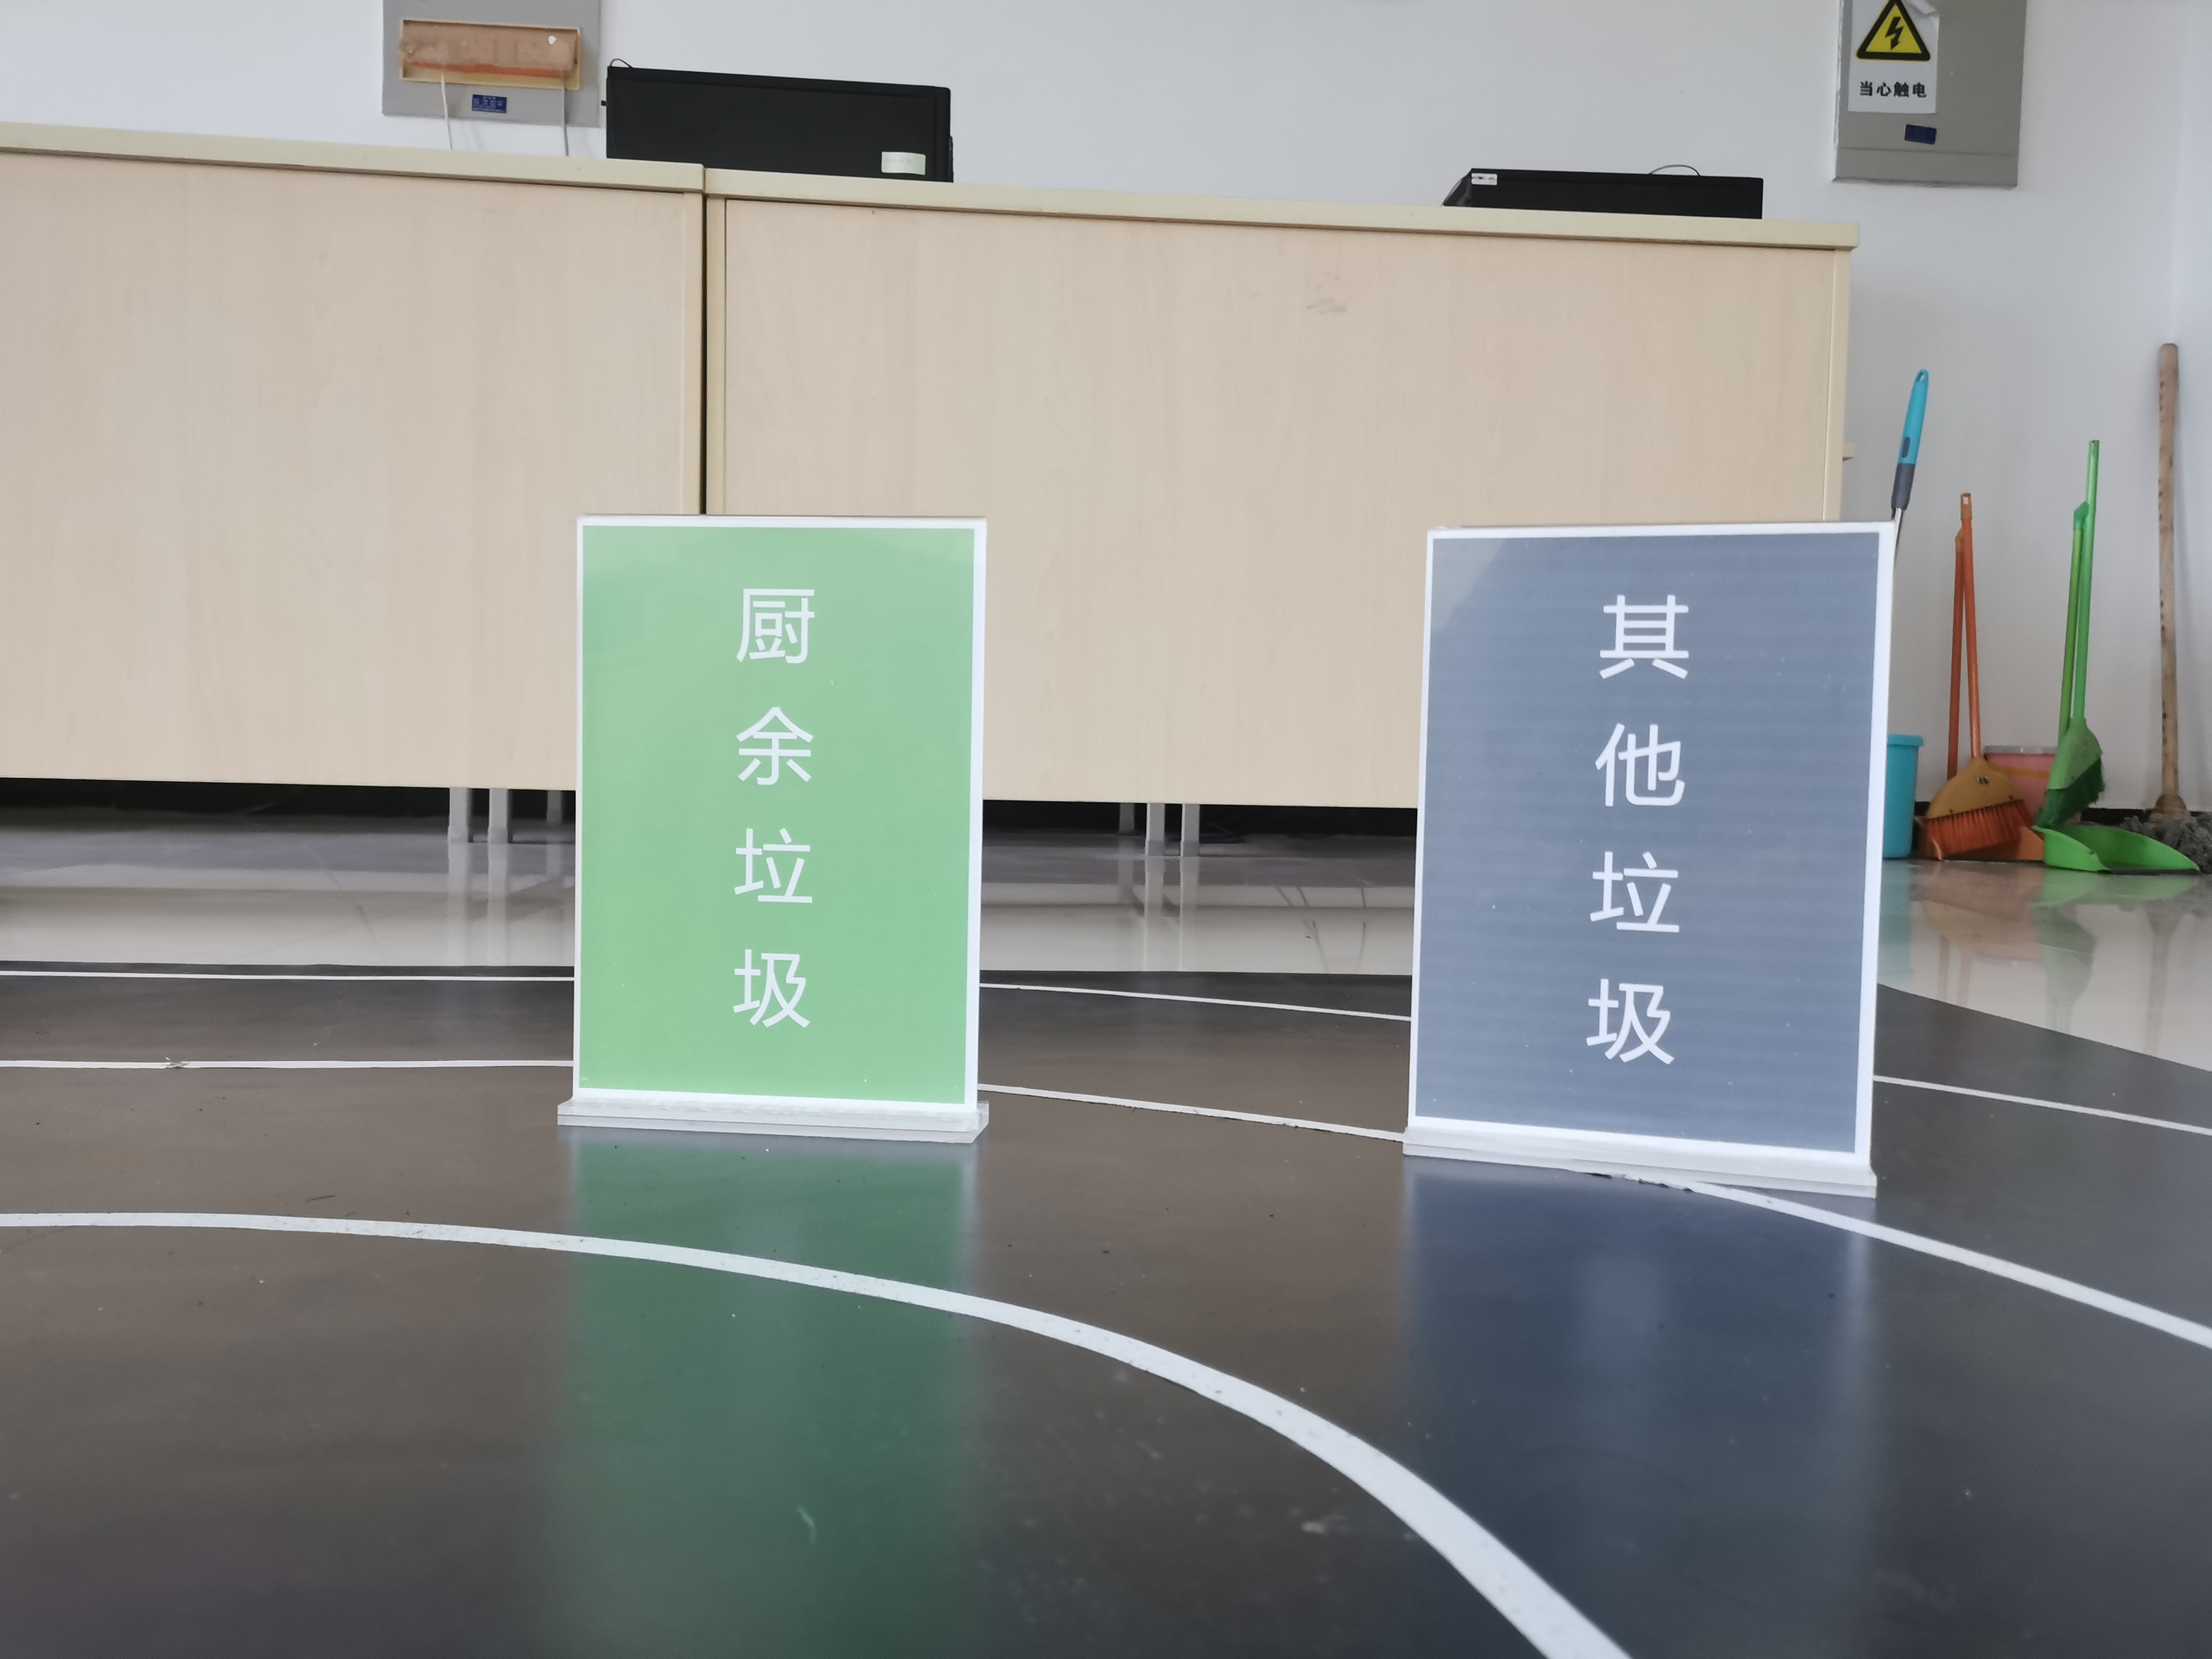black: (1435, 545, 1846, 1117)
green: (589, 537, 961, 1089)
